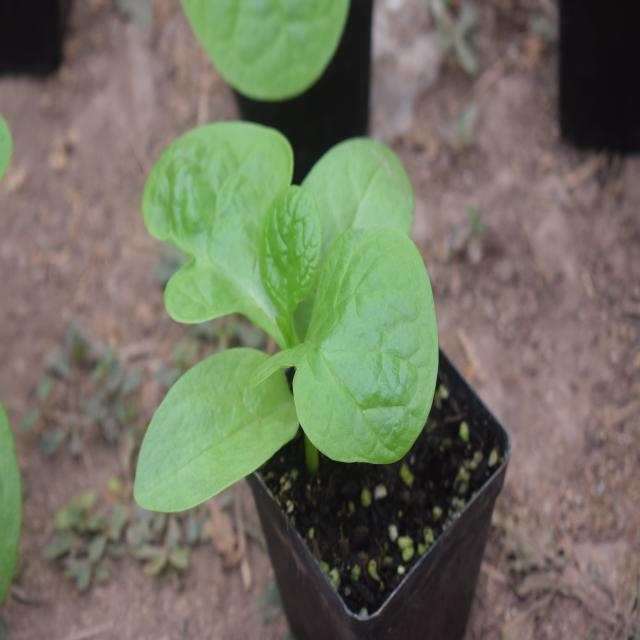Ceylon spinach: (138, 106, 441, 508)
